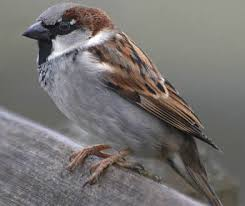hsparrow: (19, 1, 236, 205)
